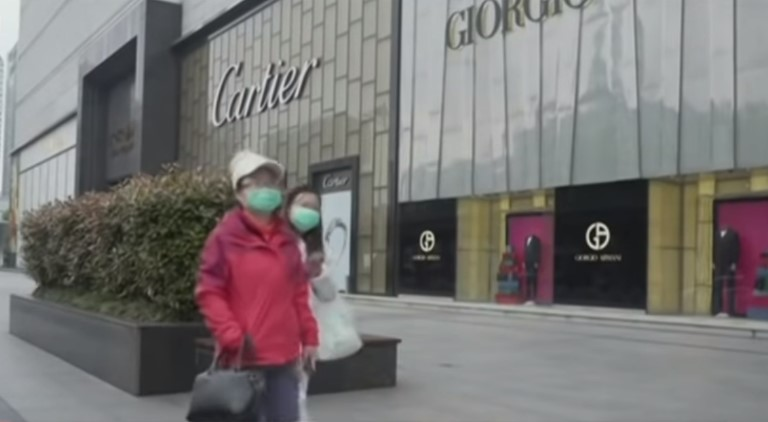face_with_mask: (226, 150, 285, 215), (281, 184, 324, 237)
